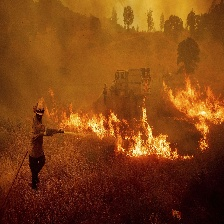fire: (40, 95, 173, 163), (162, 78, 224, 150)
smoke: (15, 10, 207, 78)
